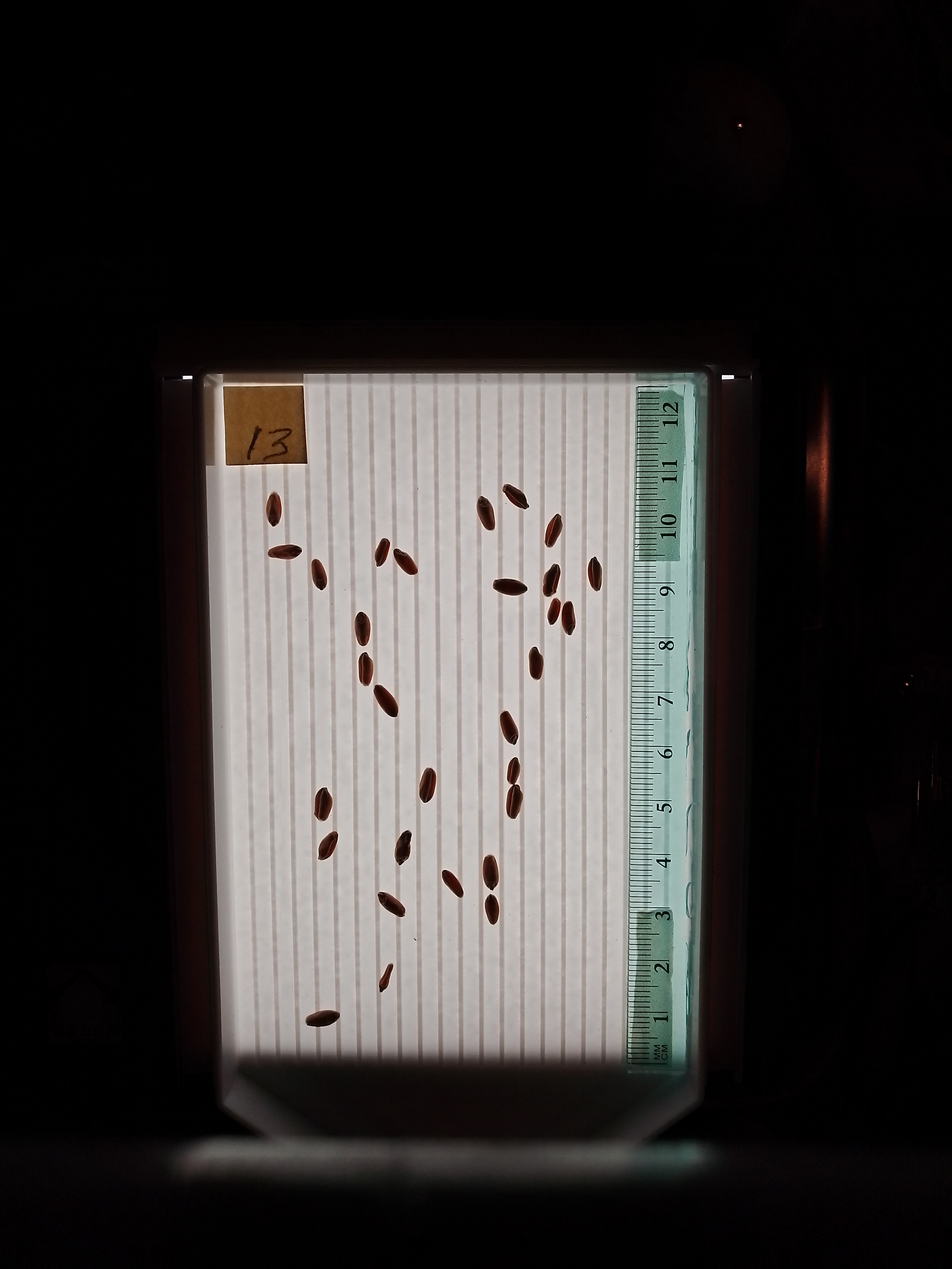seed mask: (374, 685, 398, 717), (313, 788, 333, 822), (503, 484, 529, 510), (379, 892, 405, 917), (306, 1009, 340, 1028), (499, 712, 519, 744), (419, 768, 437, 803), (394, 549, 417, 575), (477, 497, 495, 530), (494, 578, 527, 596), (318, 832, 338, 860), (442, 871, 463, 897), (354, 613, 371, 645), (506, 786, 523, 818), (395, 832, 412, 864), (483, 855, 499, 889), (545, 516, 563, 546), (266, 493, 282, 526), (268, 544, 301, 560), (543, 565, 560, 595), (311, 559, 327, 590), (358, 654, 373, 686), (588, 557, 602, 591), (374, 538, 390, 566), (562, 602, 576, 634), (529, 648, 543, 679), (485, 896, 499, 924), (507, 758, 520, 785), (548, 599, 560, 624)
